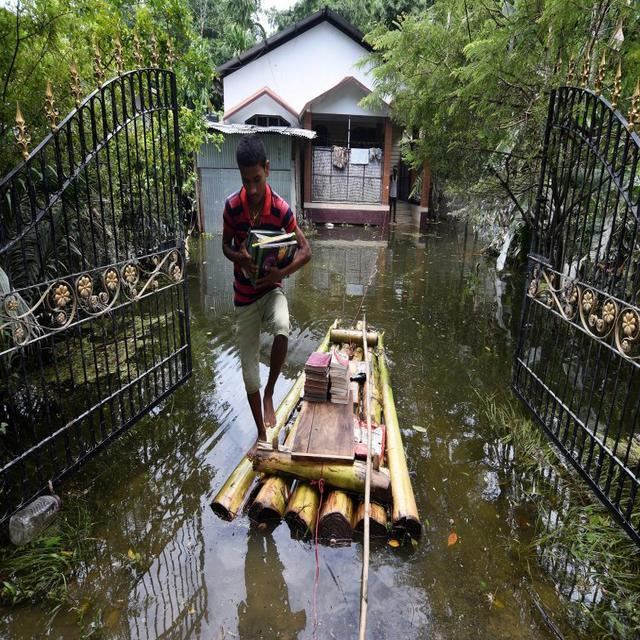Person-RiskLevel3: (218, 131, 305, 460)
